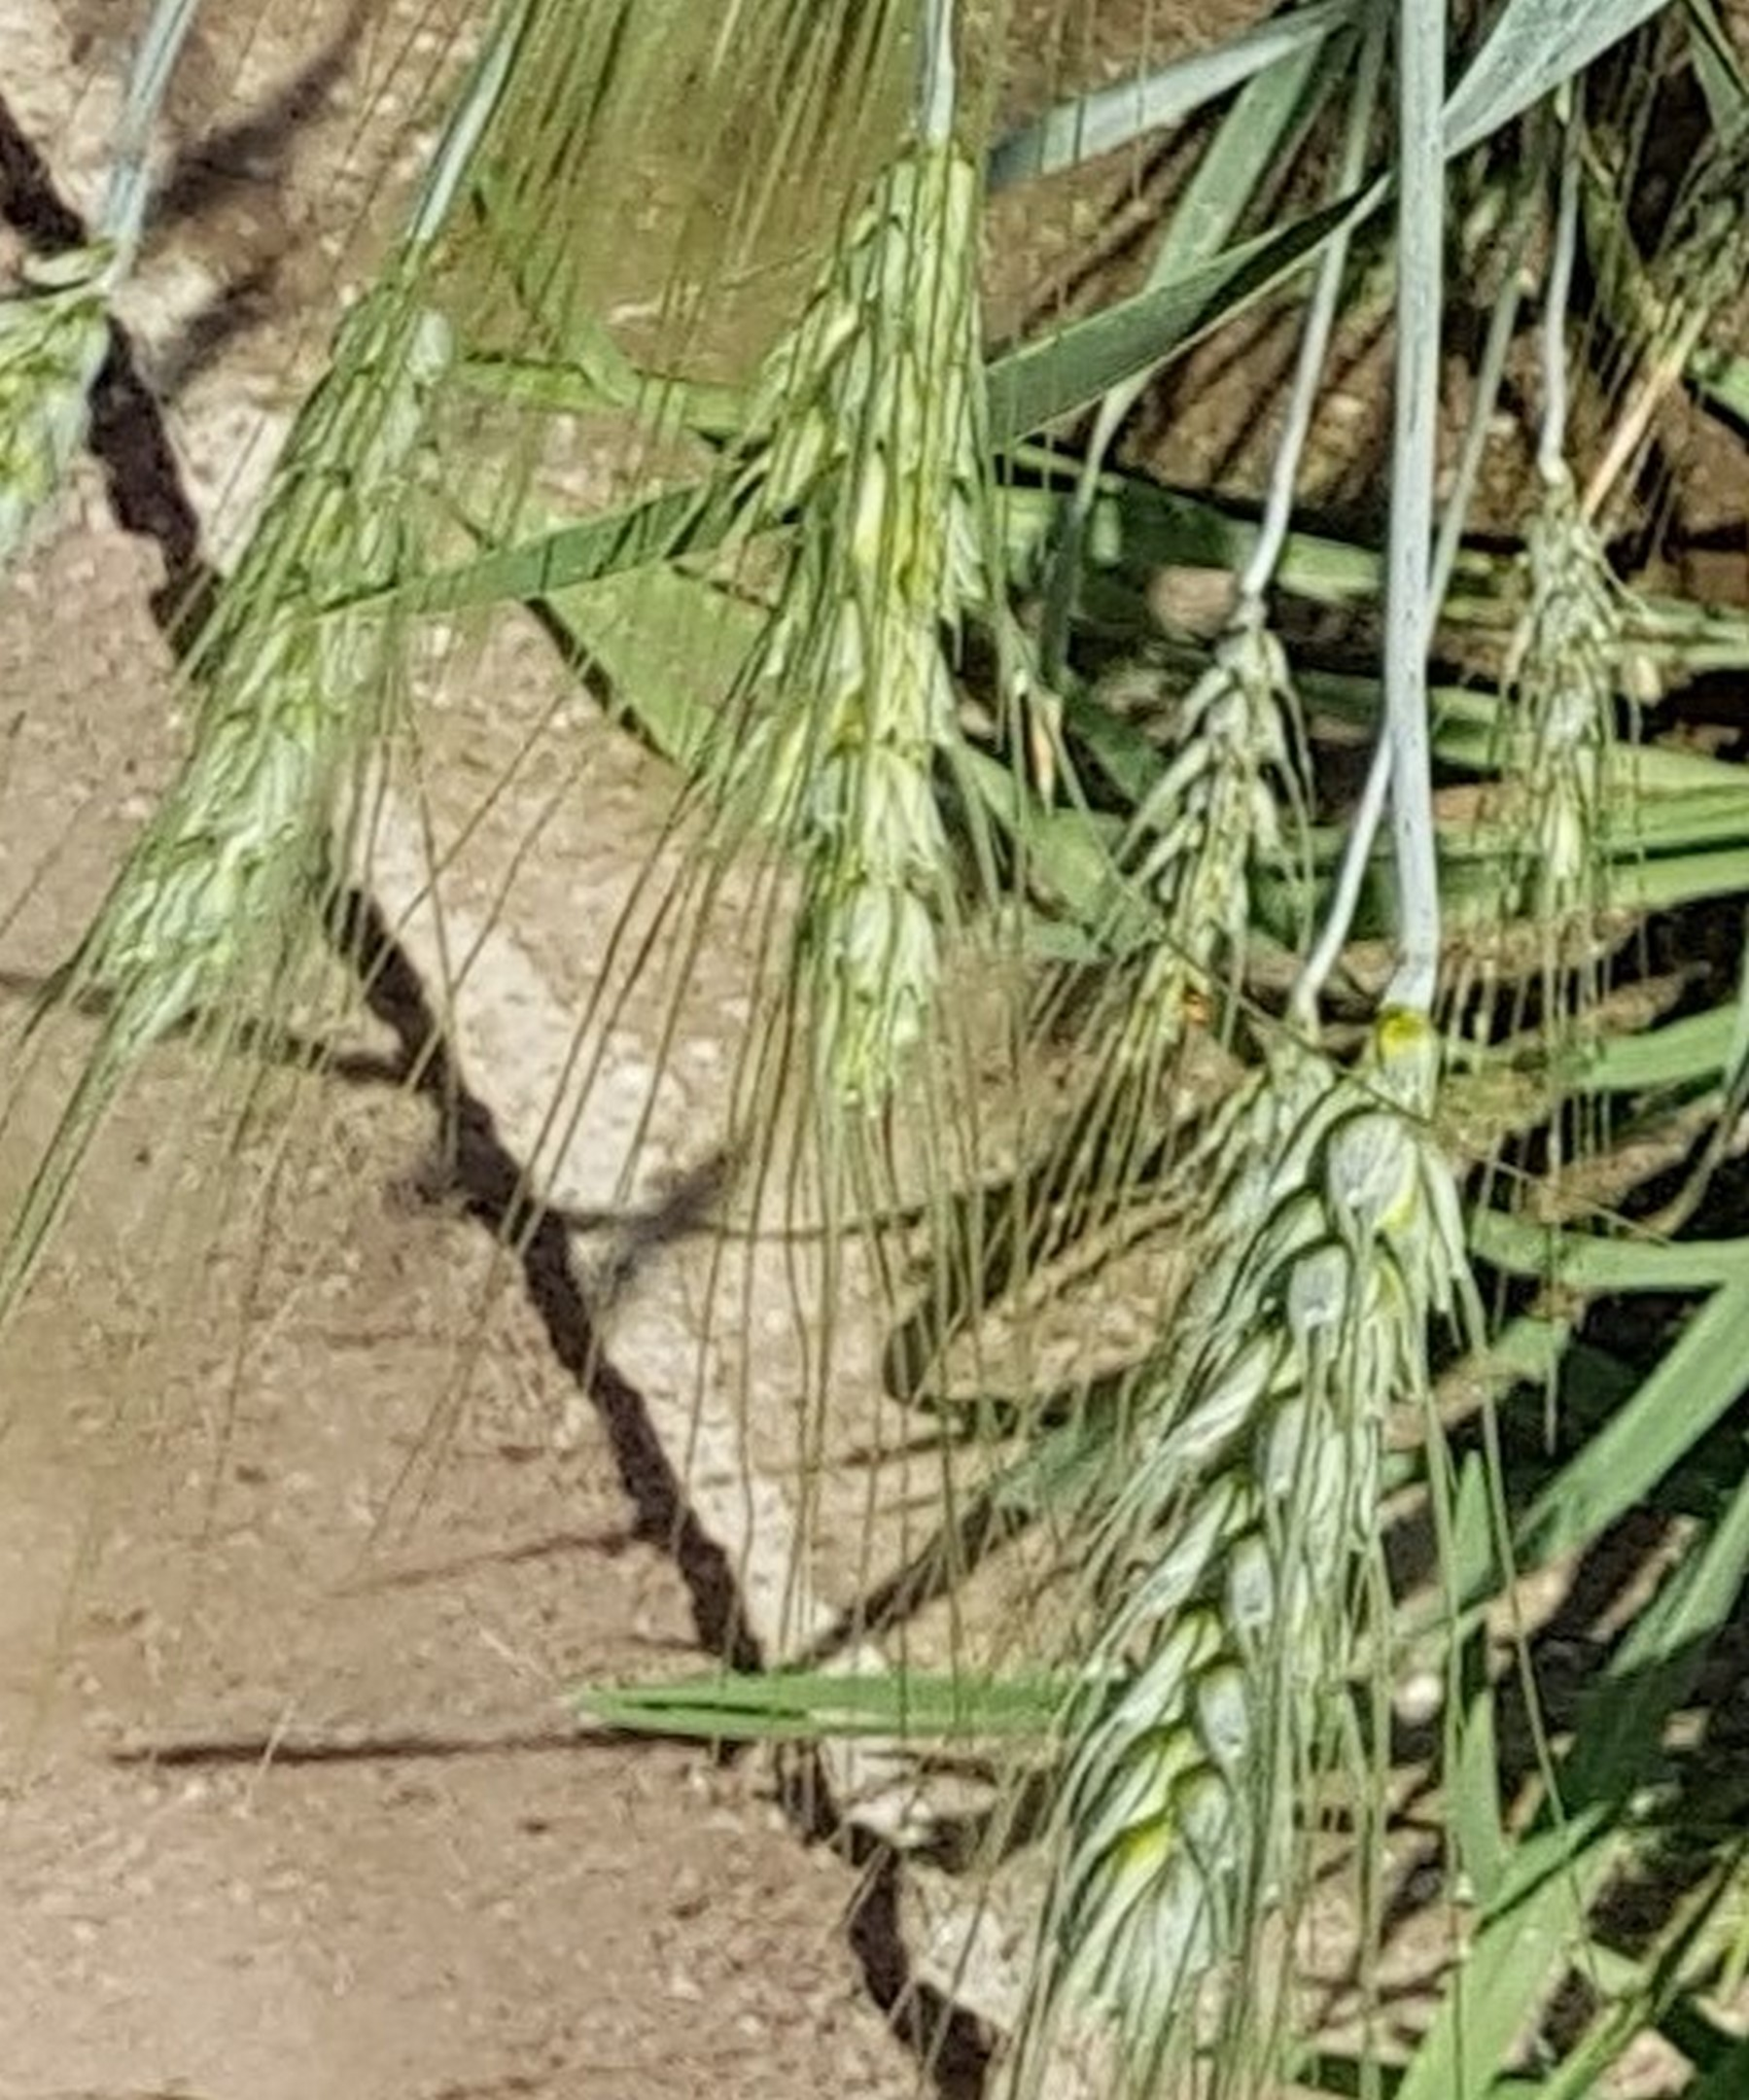Healthy Wheat: (1006, 1029, 1550, 2022)
